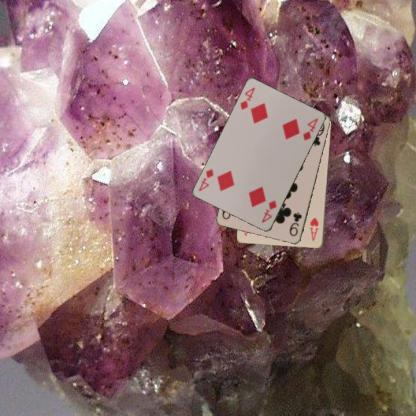4d: (259, 198, 278, 224), (238, 85, 256, 111)
9c: (286, 210, 304, 237)
Ah: (307, 215, 320, 242)
